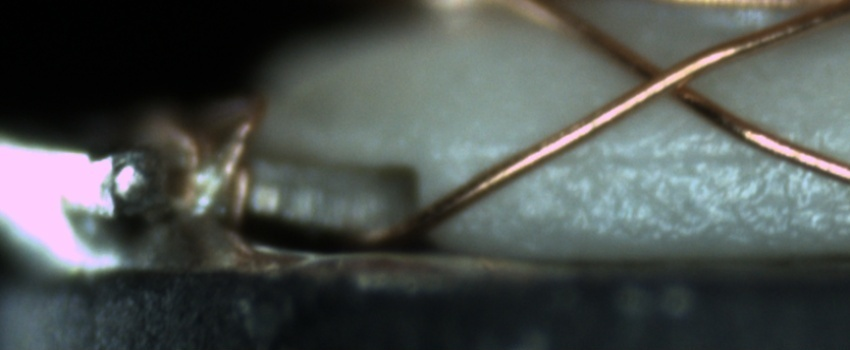CL: (613, 42, 714, 112)
DL: (441, 130, 808, 185)
TE: (130, 88, 270, 239)
